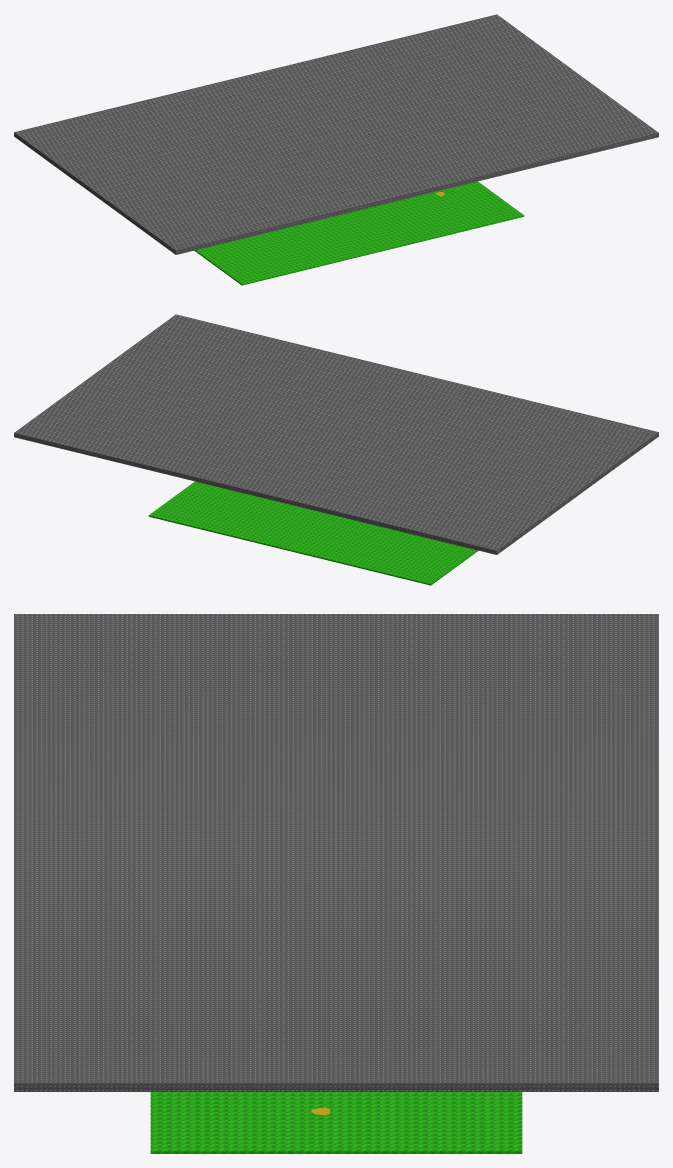
The model's file is golf_brush.glb.
The picture shows the model from 3 angles, top to bottom: view 1: azimuth 30°, elevation 25°; view 2: azimuth 150°, elevation 25°; view 3: azimuth 270°, elevation 25°; orthographic projection. The views are drawn at different scales.
Parts seen in each view (by area): view 1: golf; view 2: golf; view 3: golf.
Part boxes in pixels (x1,y1,x2,y2): golf: [14, 14, 658, 285]; golf: [14, 314, 658, 585]; golf: [14, 614, 658, 1153].
Bounding box in the file's own units: 29950 × 5006 × 17398.
3 materials, 3 textured.
